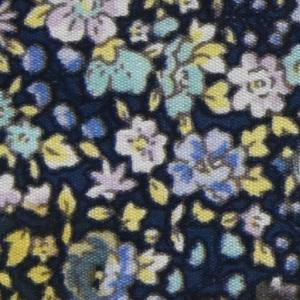Stain: (2, 197, 126, 300), (187, 262, 300, 300)
